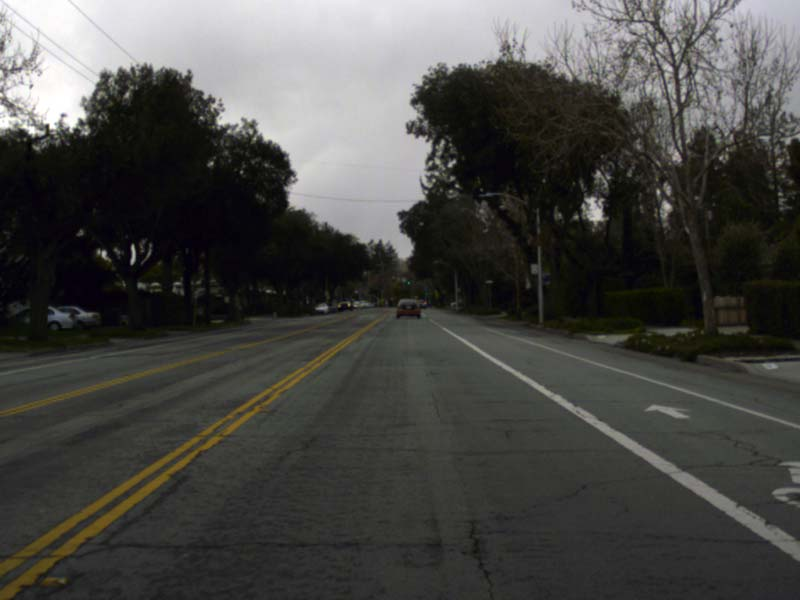Green: (407, 278, 410, 284), (425, 290, 427, 294)
Yellow: (392, 276, 394, 282)
